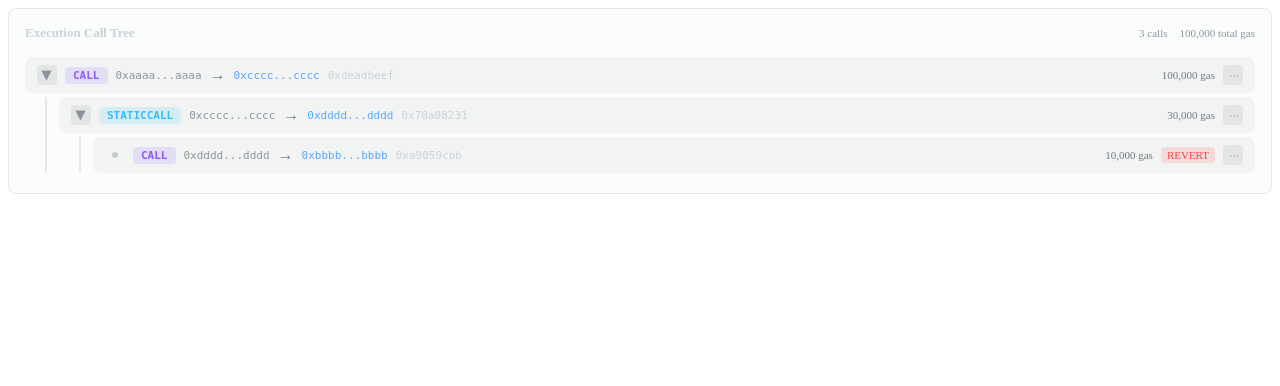
Test: CallTree › shows revert reason in detail panel for reverted frames
The image size is (1280, 386).
Note: Last detail button is the reverted grandchild
What coordinates should you click on to do the following:
click the button titled "Show details" next to "REVERT"
I would click on:
 (1233, 155)
Its box is [1223,145,1243,165].
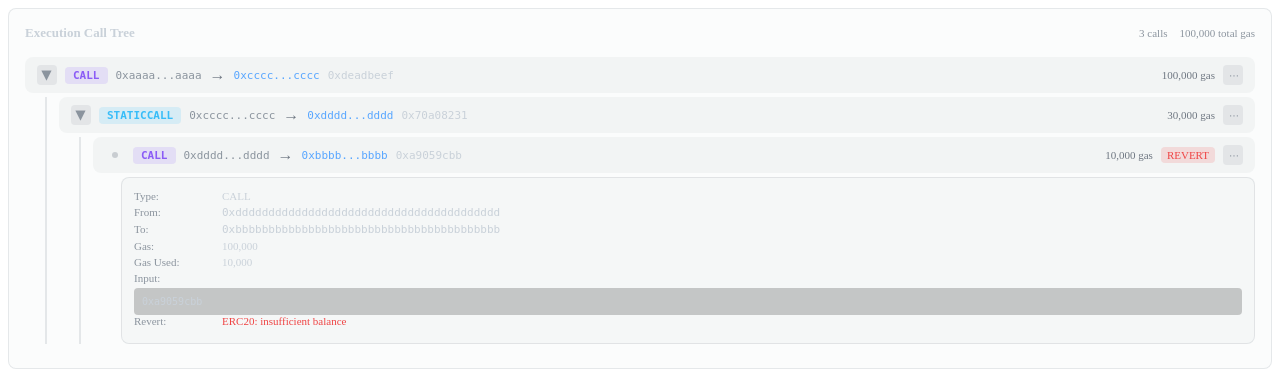
Now the text "ERC20: insufficient balance" is shown, box [222,315,346,327]
